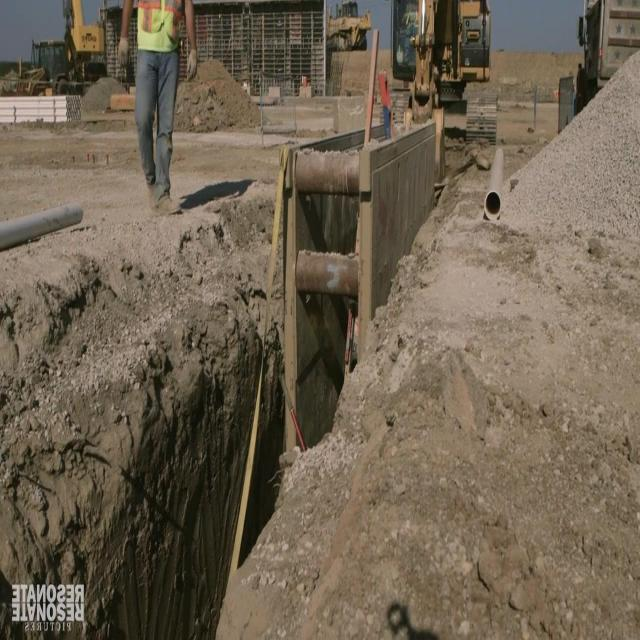reflective_jacket: (123, 0, 192, 60)
